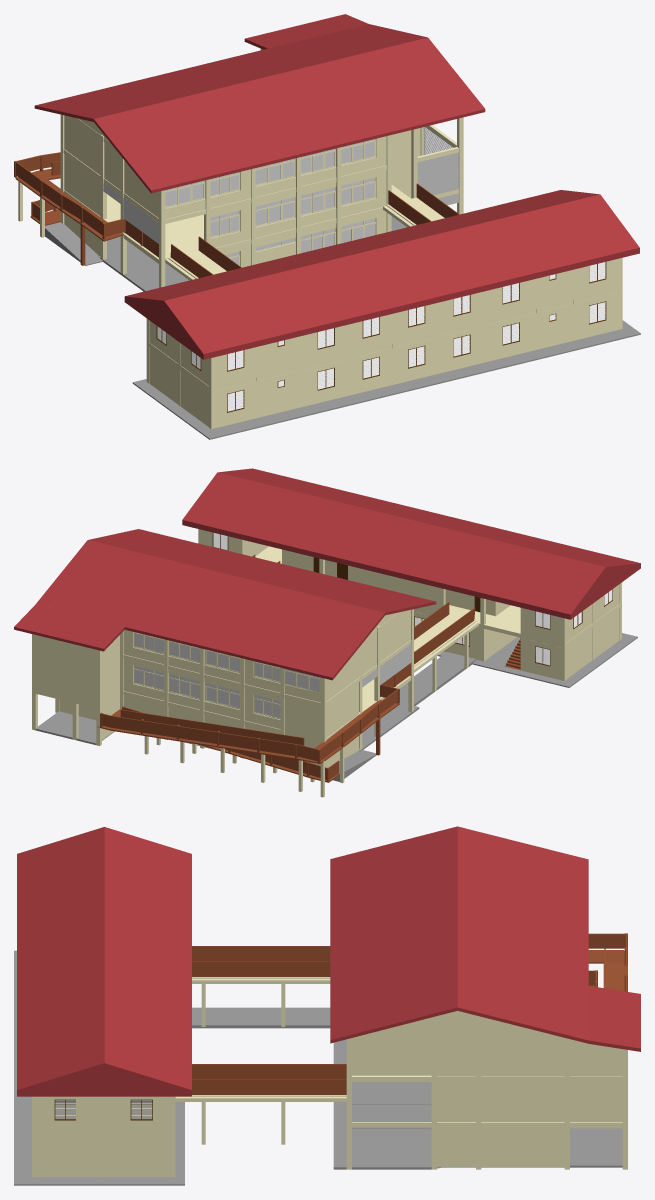
File: Sathabun_phutthana_asiva.glb
3 renders of one model, top to bottom at view 1: azimuth 30°, elevation 25°; view 2: azimuth 150°, elevation 25°; view 3: azimuth 270°, elevation 25°, orthographic. The views are drawn at different scales.
Parts seen in each view (by area): view 1: Cube.144, ROOF.002, Cube.110, pilla.007, Cube.149, Cube.111, pilla.008, Cube.142, Cube.150, pilla.010, floor1.001, Cube.148 (+34 smaller); view 2: Cube.144, ROOF.002, Cube.110, Cube.142, pilla.007, Cube.125, Cube.149, Cube.147, Cube.150, Cube.111, floor1.001, Cube.211 (+20 smaller); view 3: Cube.144, ROOF.002, Cube.125, Cube.195, Cube.149, Cube.148, floor1.001, Cube.147, Cube.111, Cube.137, pilla.007, Cube.110 (+1 smaller).
Part boxes in pixels (x1,y1,x2,y2): Cube.144: (34, 14, 485, 193); ROOF.002: (124, 190, 639, 359); Cube.110: (64, 115, 386, 278); pilla.007: (60, 49, 463, 287); Cube.149: (132, 320, 640, 439); Cube.111: (63, 116, 458, 263); pilla.008: (209, 258, 622, 429); Cube.142: (15, 152, 125, 241); Cube.150: (149, 320, 208, 426); pilla.010: (149, 289, 618, 391); floor1.001: (97, 210, 407, 291); Cube.148: (383, 183, 459, 227); Cube.144: (14, 529, 436, 680); ROOF.002: (182, 468, 640, 619); Cube.110: (102, 610, 410, 767); Cube.142: (97, 684, 399, 782); pilla.007: (32, 609, 413, 767); Cube.125: (32, 634, 96, 720); Cube.149: (397, 633, 637, 709); Cube.147: (414, 602, 478, 691); Cube.150: (566, 584, 619, 678); Cube.111: (123, 611, 411, 739); floor1.001: (35, 706, 419, 752); Cube.211: (244, 540, 510, 616); Cube.144: (330, 826, 640, 1051); ROOF.002: (17, 827, 191, 1096); Cube.125: (437, 1036, 622, 1167); Cube.195: (37, 1096, 170, 1176); Cube.149: (14, 950, 330, 1185); Cube.148: (175, 1064, 346, 1144); floor1.001: (333, 1039, 622, 1169); Cube.147: (192, 946, 330, 1026); Cube.111: (352, 1031, 622, 1127); Cube.137: (352, 1082, 431, 1136); pilla.007: (346, 1030, 627, 1169); Cube.110: (352, 1036, 622, 1128).
Size of the model in its own units: 42.43 by 14.33 by 47.59.
